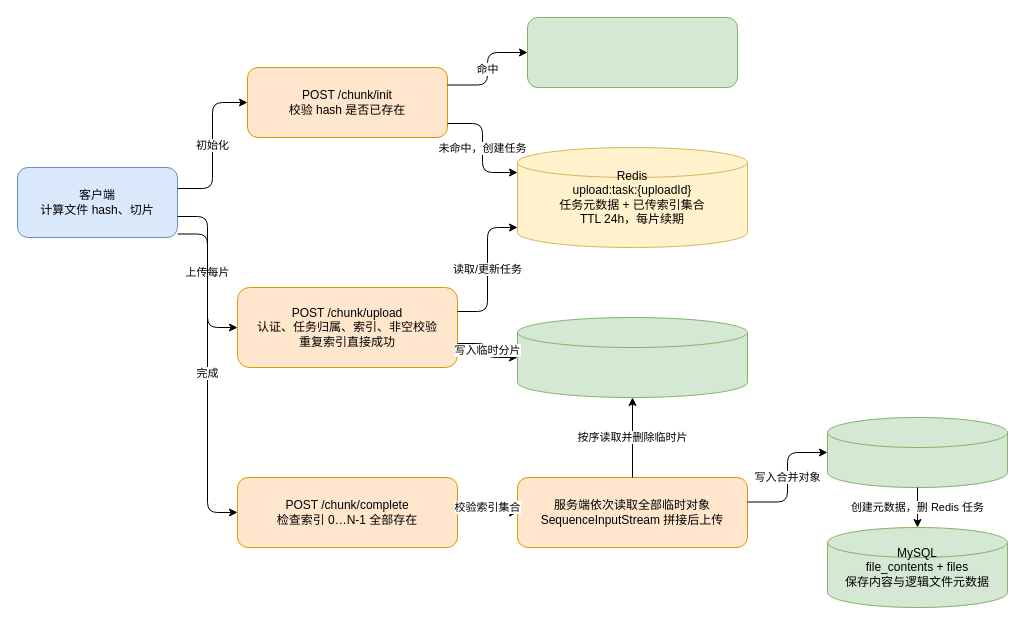
This 1025x625 diagram has some shape labels left out. Here are the shapes that lost their labels. From the top down, the centre of each, then its label:
At (x=632, y=52): "已存在：秒传 新增 files 引用，计数 +1".
At (x=632, y=357): "MinIO chunks 桶 {uploadId}/{chunkIndex}".
At (x=917, y=452): "MinIO files 桶 UUID + 原扩展名".
